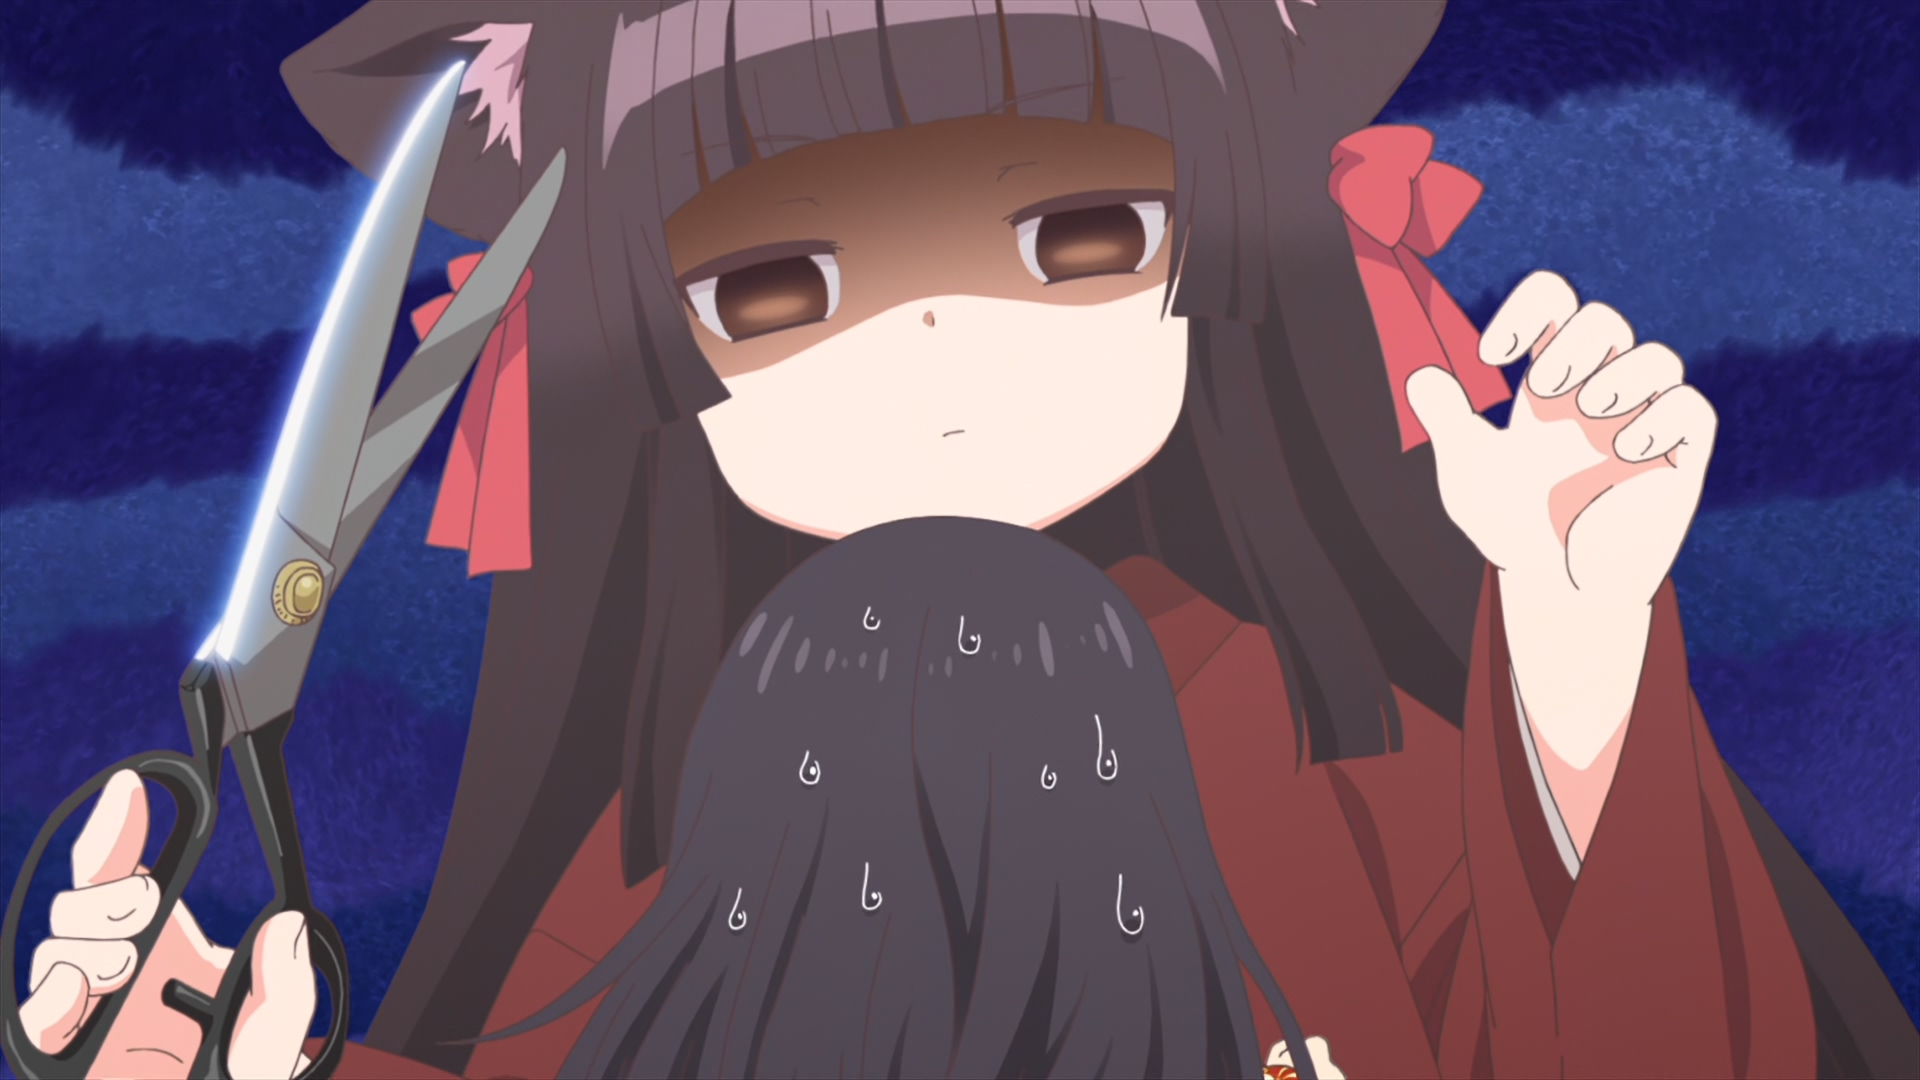樱: (1, 1, 1920, 1080)
阿菊: (440, 517, 1344, 1080)
